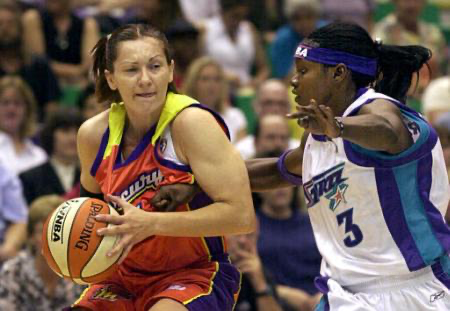Face: (112, 42, 170, 111), (288, 49, 338, 119), (256, 178, 295, 213), (256, 82, 287, 123), (196, 63, 226, 105), (51, 127, 83, 165), (1, 92, 28, 130), (263, 118, 289, 152)
